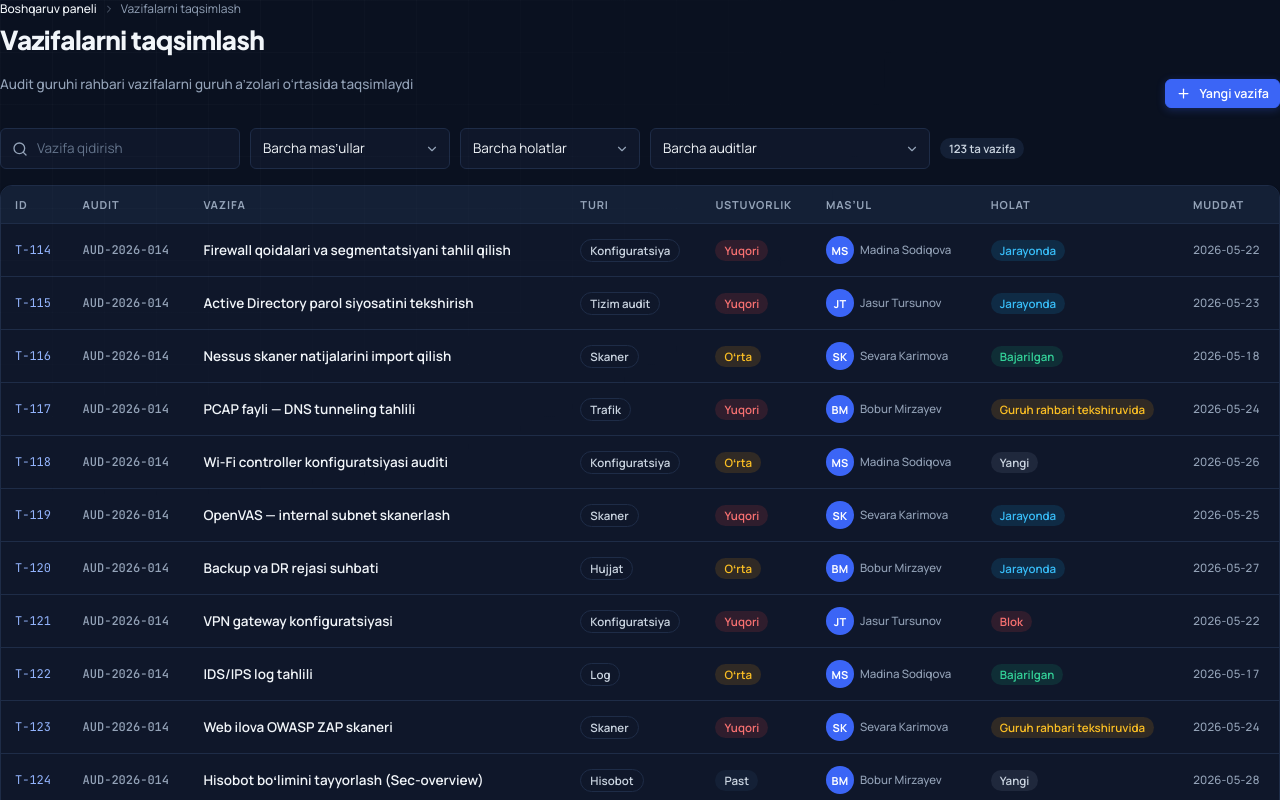
Test: AssignScreen › shows an empty state when nothing matches
In the field labelled "Vazifa qidirish": (120, 149) [0,128,240,169], type "zzz-no-match"
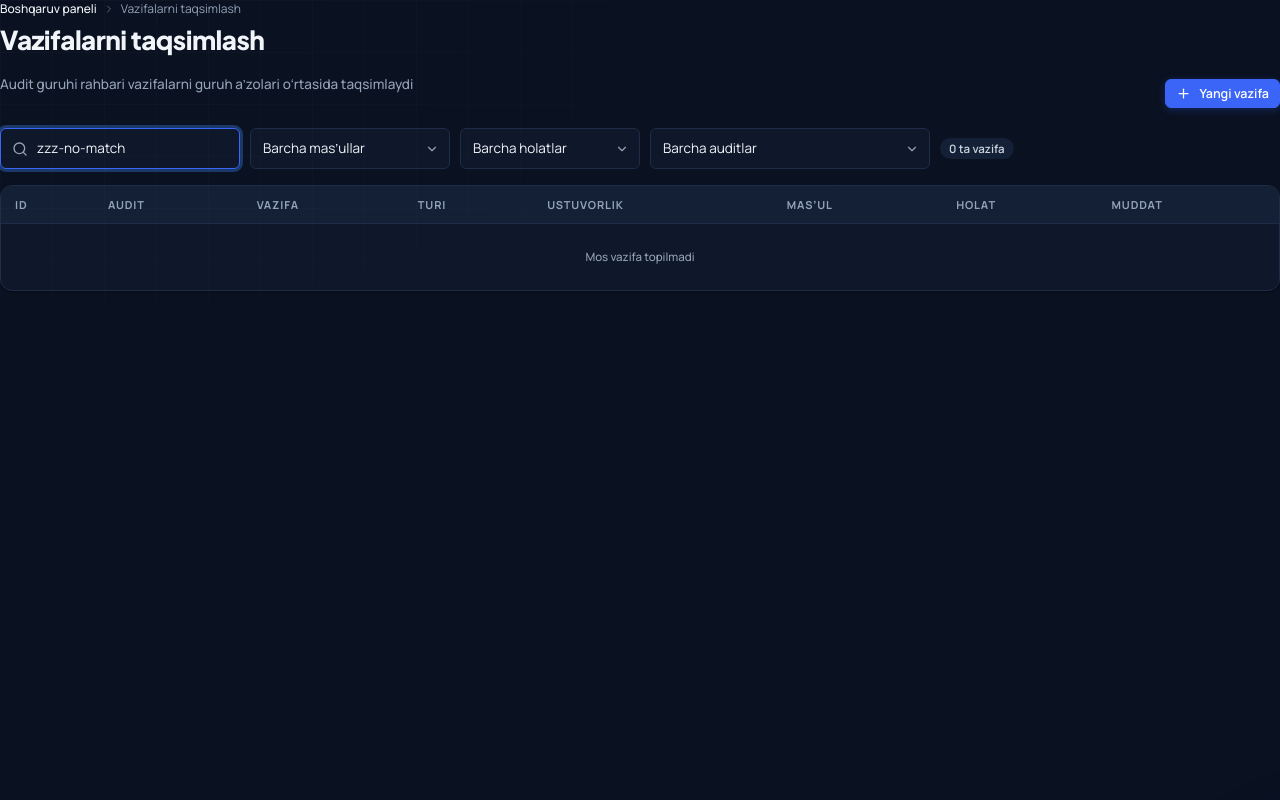
Check: the text "Mos vazifa topilmadi" is shown, box [1,224,1279,290]
